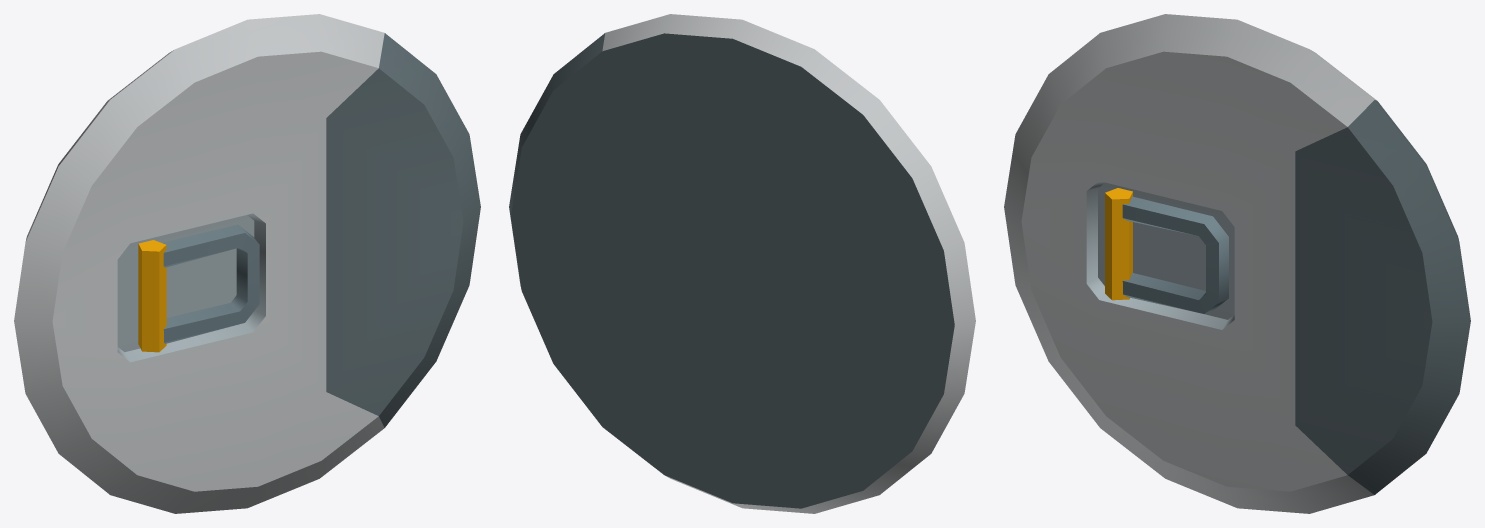
Rendered from Door_panel_003.fbx.
3 renders of one model, left to right at view 1: azimuth 30°, elevation 25°; view 2: azimuth 150°, elevation 25°; view 3: azimuth 330°, elevation 25°, orthographic.
Parts seen in each view (by area): view 1: Door_panel_003; view 2: Door_panel_003; view 3: Door_panel_003.
Boxes of the visible parts, left/top/right/bottom form: Door_panel_003: left=14, top=14, right=480, bottom=513; Door_panel_003: left=509, top=14, right=975, bottom=513; Door_panel_003: left=1004, top=14, right=1470, bottom=513.
Size of the model in its own units: 88.62 by 9.31 by 88.62.
